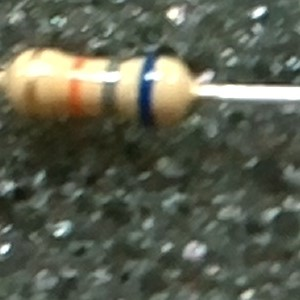blue_band: (135, 53, 161, 129)
gold_band: (18, 47, 49, 126)
grey_band: (96, 60, 123, 118)
orange_band: (67, 54, 89, 119)
